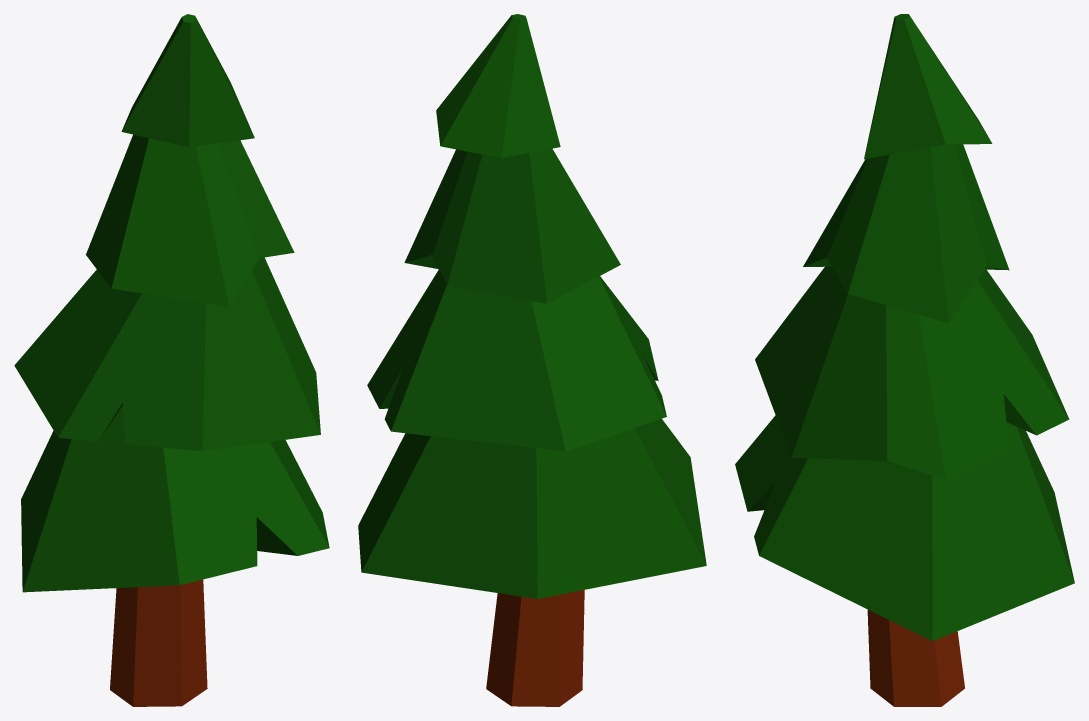
Rendered from tree_pyramidal3.glb.
3 renders of one model, left to right at view 1: azimuth 30°, elevation 25°; view 2: azimuth 150°, elevation 25°; view 3: azimuth 270°, elevation 25°, orthographic. The views are drawn at different scales.
Parts seen in each view (by area): view 1: tree_pyramidal3; view 2: tree_pyramidal3; view 3: tree_pyramidal3.
Boxes of the visible parts, x1,y1,x2,y2 form: tree_pyramidal3: (14,14,329,706); tree_pyramidal3: (358,14,706,706); tree_pyramidal3: (735,14,1074,706).
Size of the model in its own units: 0.3668 by 0.7207 by 0.3244.
